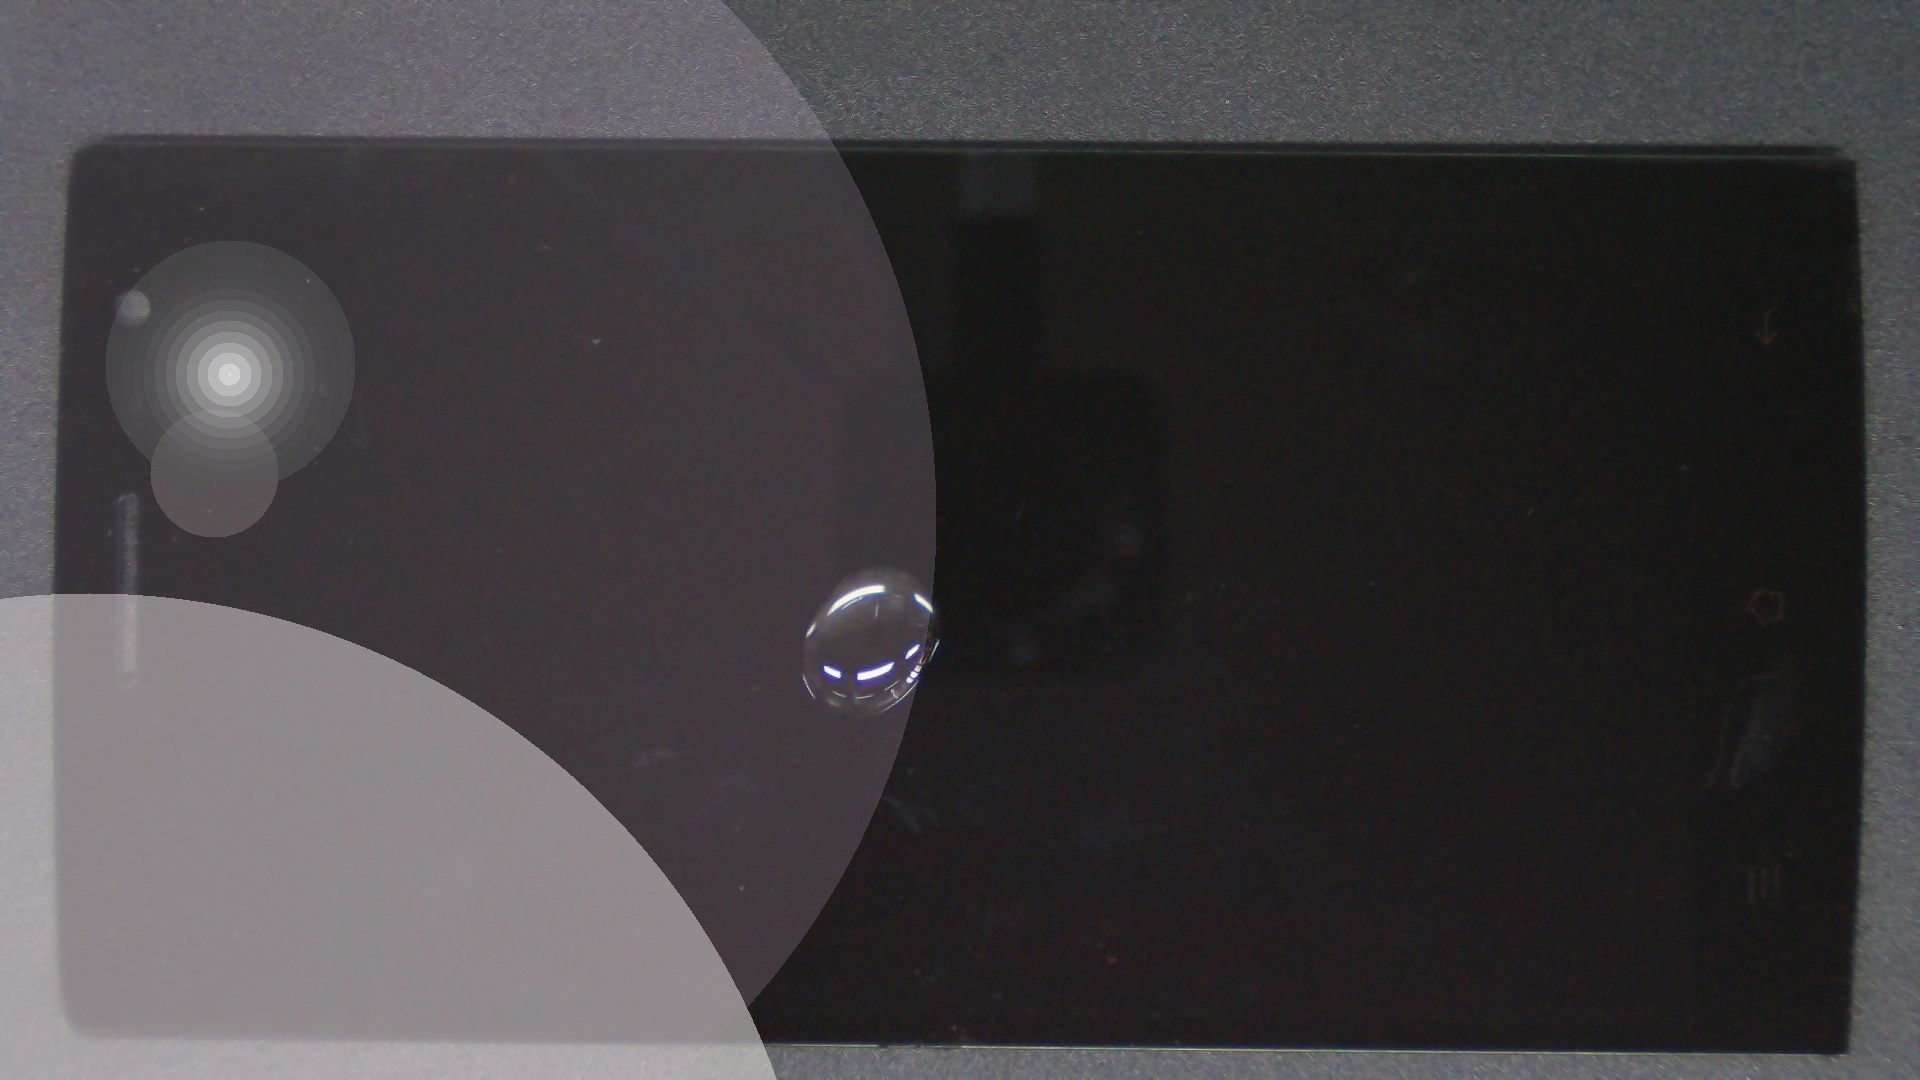oil: (446, 282, 1336, 849)
